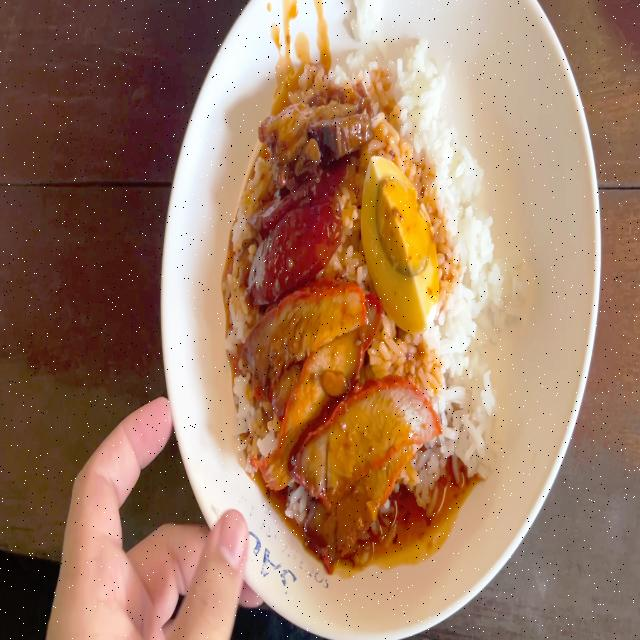boiled_egg: (366, 159, 441, 328)
chainese_sausage: (255, 179, 338, 275)
crispy_pork: (260, 93, 373, 161)
red_pork: (256, 294, 381, 517), (373, 376, 436, 491)
red_pork_and_crispy_pork: (236, 64, 496, 512)
rice: (443, 154, 499, 494), (380, 48, 460, 158)
